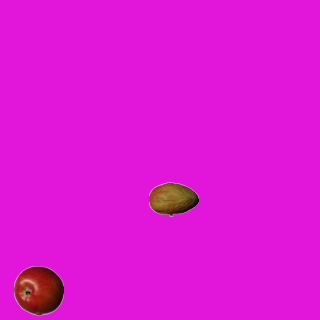Apple Braeburn: (13, 265, 63, 315)
Papaya: (148, 174, 198, 224)
